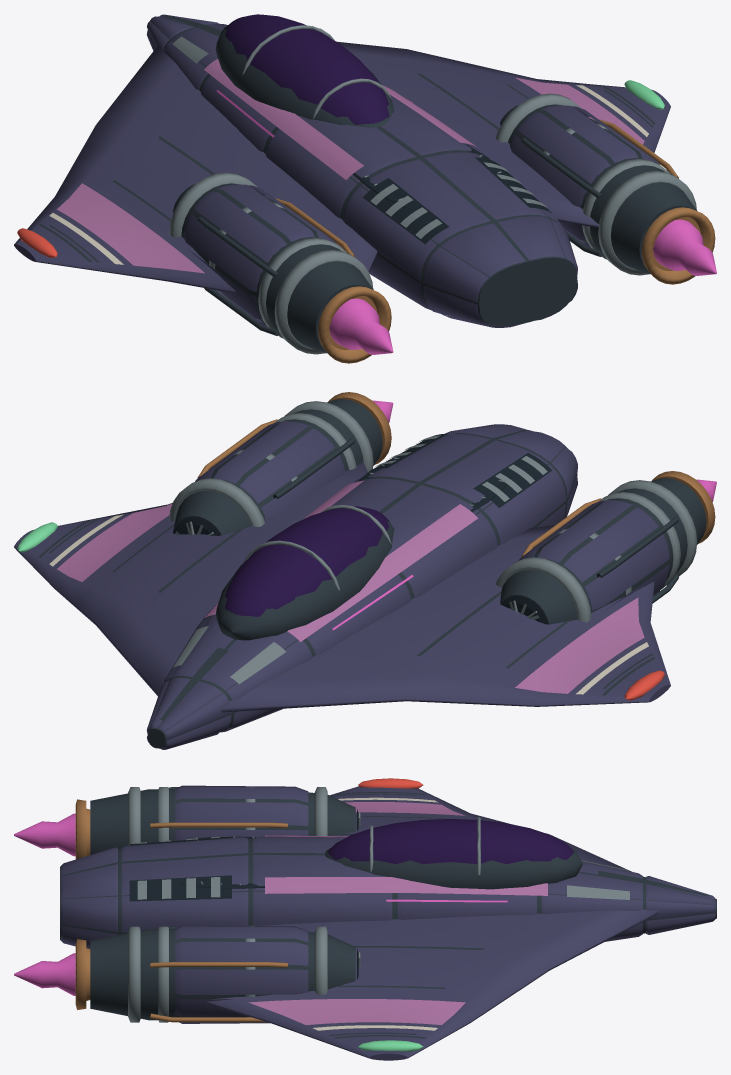
File: vespera.glb
The picture shows the model from 3 angles, top to bottom: view 1: azimuth 30°, elevation 25°; view 2: azimuth 150°, elevation 25°; view 3: azimuth 270°, elevation 25°; orthographic projection. The views are drawn at different scales.
Parts seen in each view (by area): view 1: vespera; view 2: vespera; view 3: vespera.
Part boxes in pixels (box(x1,y1,x2,y2)): vespera: box(14, 14, 716, 363); vespera: box(14, 392, 716, 749); vespera: box(14, 778, 716, 1060).
Size of the model in its own units: 8.24 by 1.79 by 8.95.
